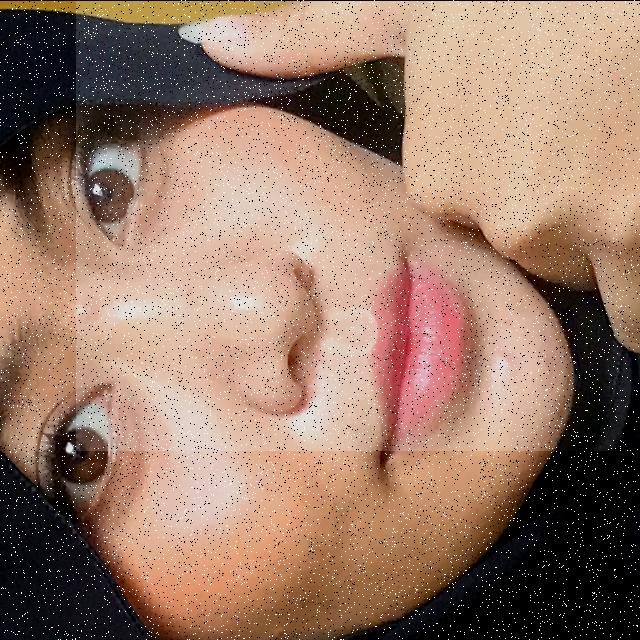telpon: (76, 0, 640, 450)
